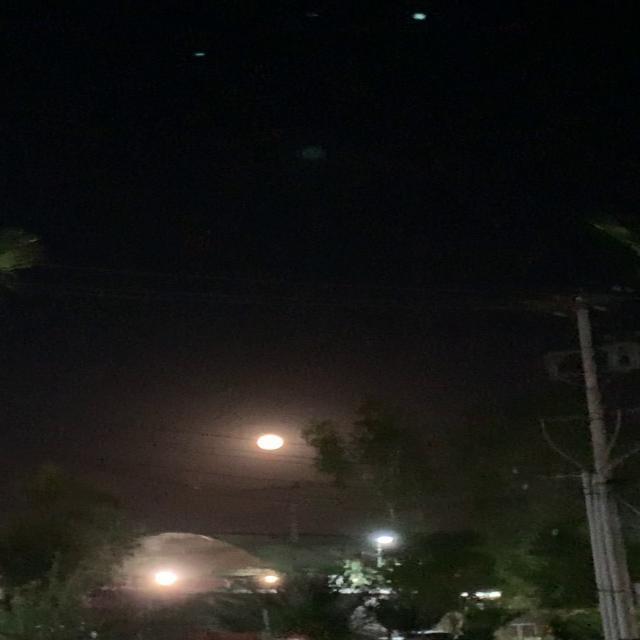moon: (250, 421, 303, 447)
